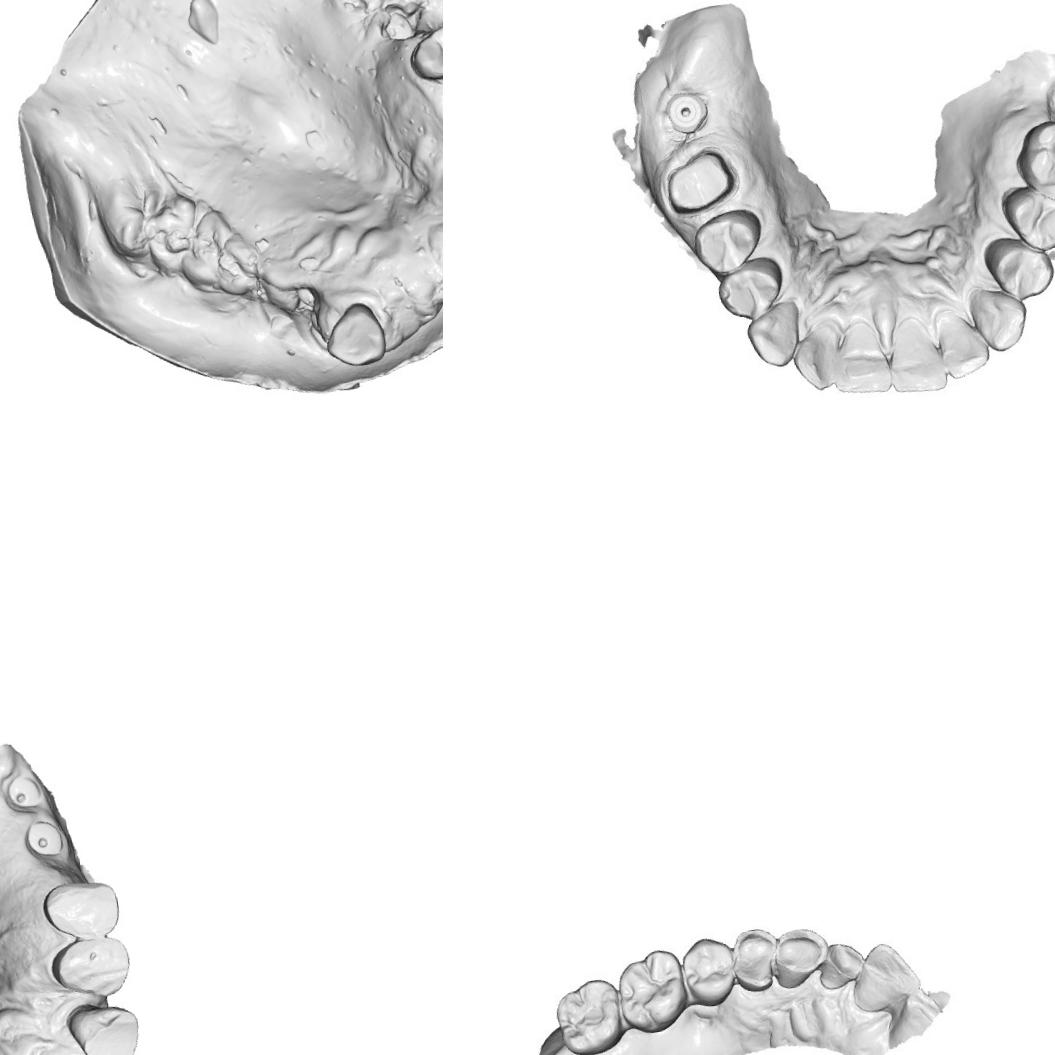canine: (319, 296, 390, 372), (65, 997, 146, 1055), (768, 921, 832, 991), (971, 283, 1030, 358), (744, 302, 802, 374)
crown: (659, 141, 744, 220)
implant: (662, 84, 712, 136), (23, 815, 69, 864), (3, 772, 47, 811)
incisor: (886, 314, 951, 395), (850, 939, 922, 1011), (828, 323, 892, 396), (936, 308, 989, 378), (811, 936, 869, 996), (793, 327, 847, 391)
molar: (608, 942, 698, 1044), (550, 978, 628, 1055), (1011, 116, 1055, 208)
premolar: (46, 932, 139, 1004), (39, 873, 122, 948), (677, 932, 743, 1014), (986, 231, 1055, 306), (716, 256, 784, 324), (725, 920, 785, 996), (693, 210, 760, 275), (1000, 183, 1055, 261), (406, 15, 443, 84)
